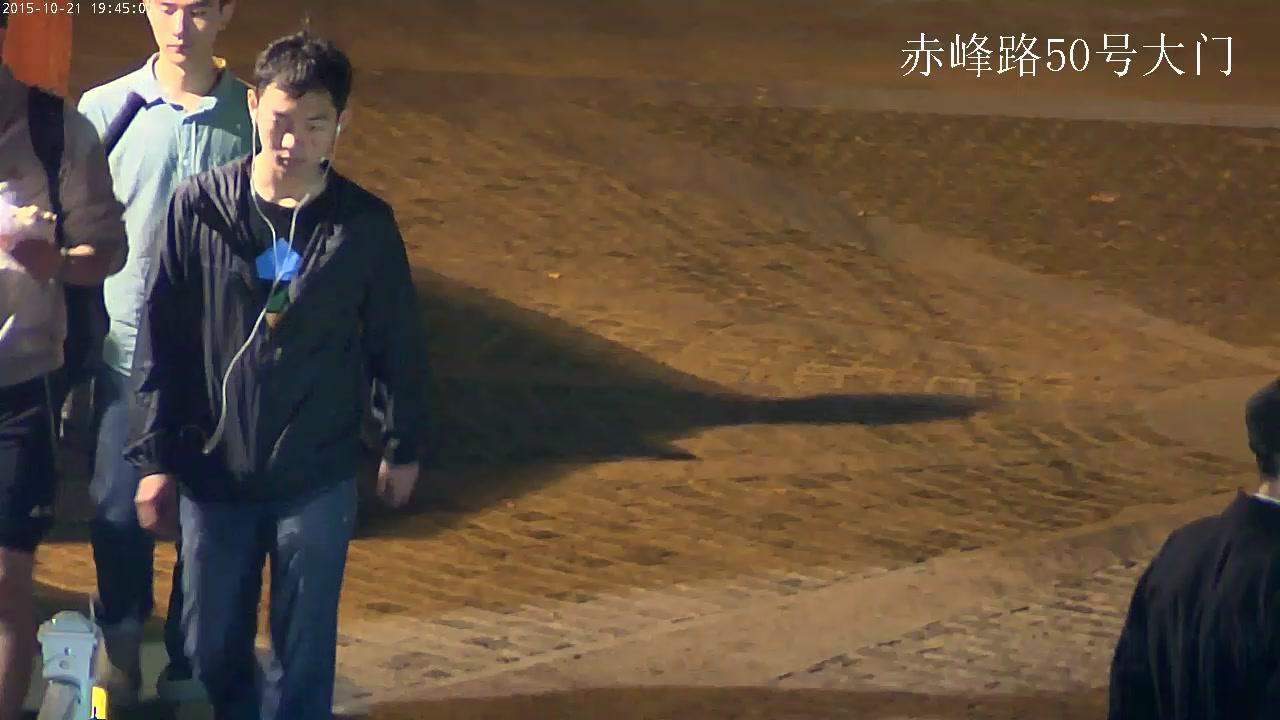person: (121, 32, 423, 720), (75, 0, 268, 720), (0, 0, 131, 720), (1107, 375, 1280, 720)
